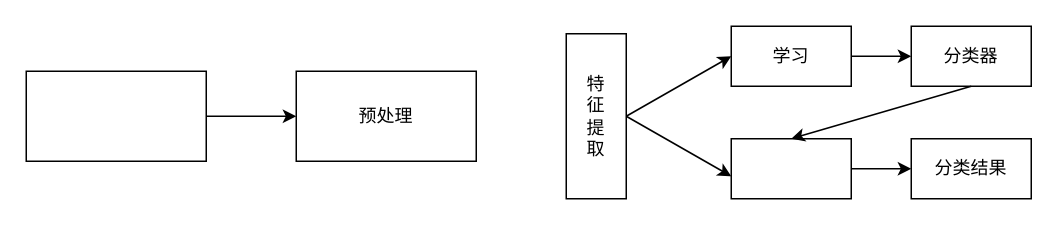
Some shapes in this 1058 by 225 pixel diagram are drawn without their labels. Here are the shapes that lost their labels. From the top down, the box of each, then its label:
(25, 70, 206, 161): 训练集
(730, 137, 851, 199): 分类
